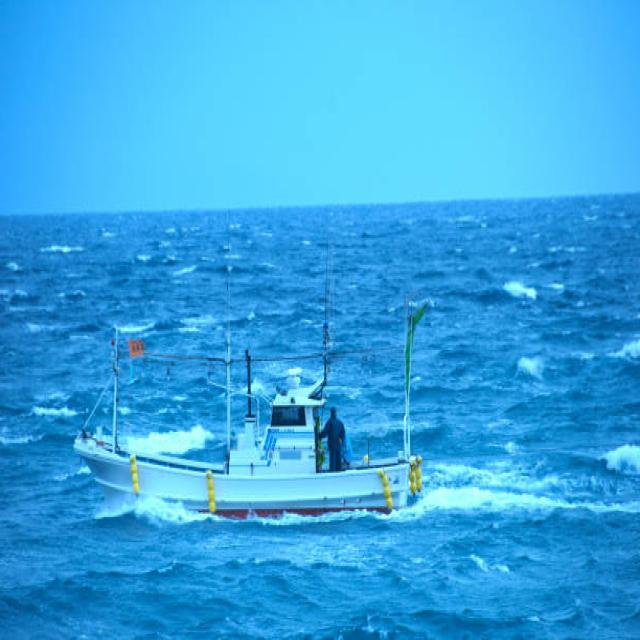Fishing Boat: (140, 226, 466, 478)
